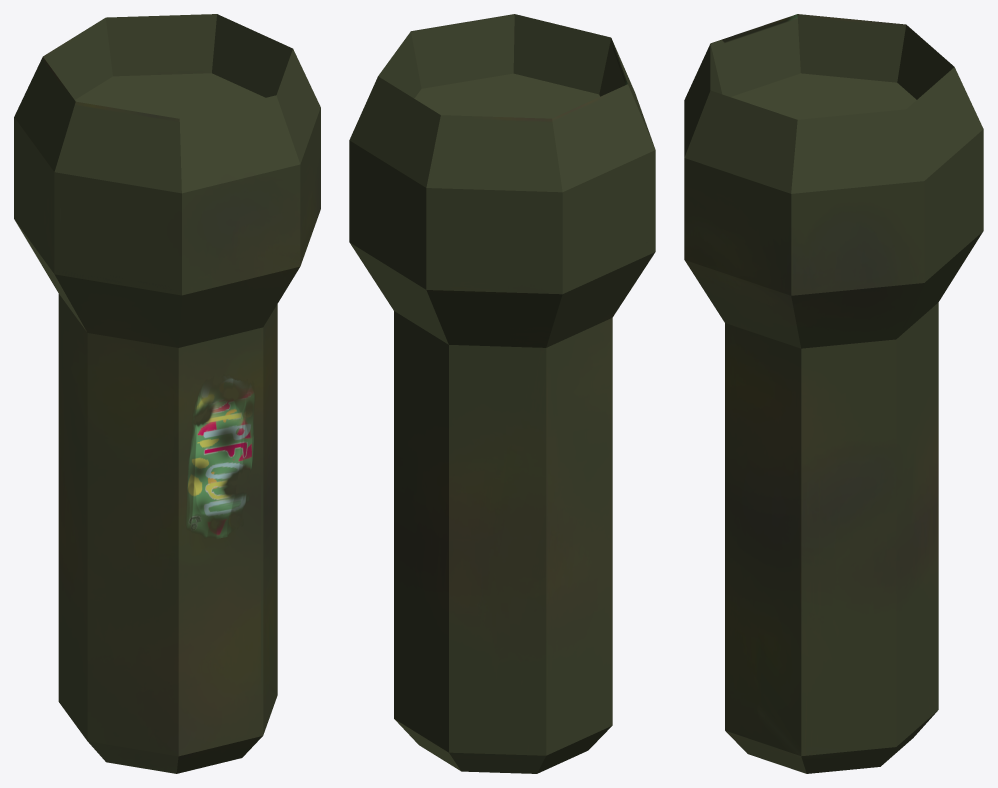
Rendered from Flashlightt.glb.
3 views of the same model, side by side, from view 1: azimuth 30°, elevation 25°; view 2: azimuth 150°, elevation 25°; view 3: azimuth 270°, elevation 25° (orthographic).
Visible parts, largest first — view 1: Cylinder, UvMapBake; view 2: Cylinder; view 3: Cylinder.
Boxes of the visible parts, x1,y1,x2,y2 form: Cylinder: (14, 14, 320, 773); UvMapBake: (186, 376, 254, 538); Cylinder: (349, 14, 655, 773); Cylinder: (684, 14, 983, 773).
Bounding box in the file's own units: 2.73 × 6.59 × 2.66.
Materials: 1 (1 with a texture image).
